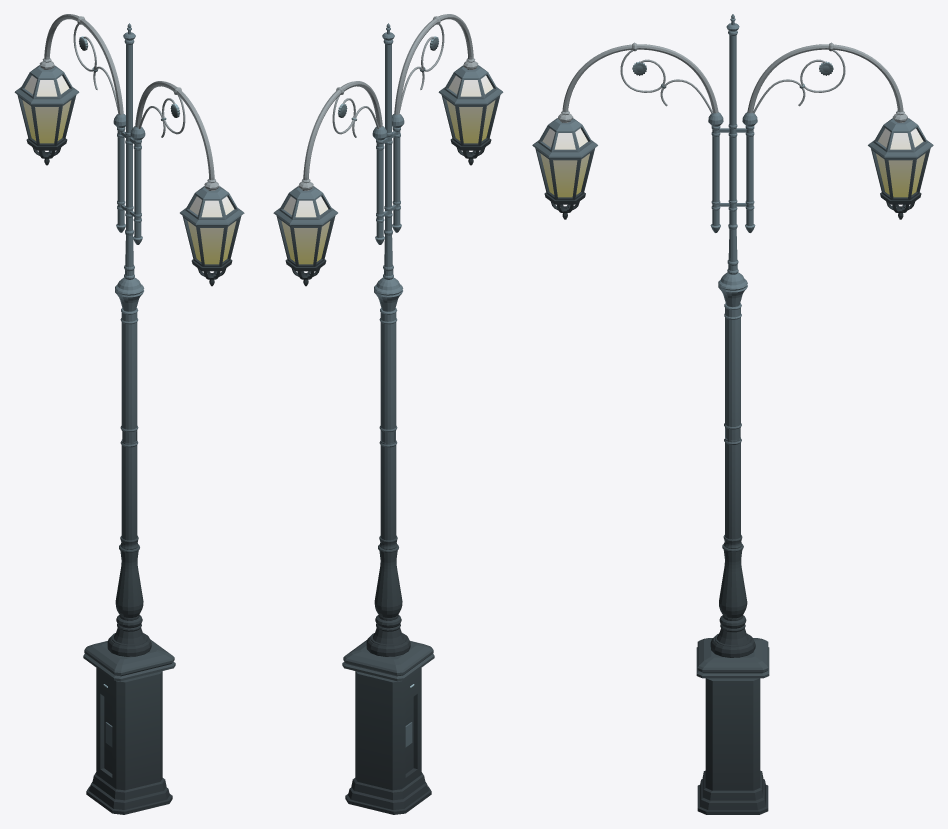
File: Lamp_TwoSides.fbx
3 renders of one model, left to right at view 1: azimuth 30°, elevation 25°; view 2: azimuth 150°, elevation 25°; view 3: azimuth 270°, elevation 25°, orthographic.
Visible parts, largest first — view 1: Cube.016; view 2: Cube.016; view 3: Cube.016.
Boxes of the visible parts, <box> form: Cube.016: <box>14,14,244,814</box>; Cube.016: <box>273,14,503,814</box>; Cube.016: <box>532,14,933,814</box>.
Bounding box in the file's own units: 71.11 × 852 × 394.
